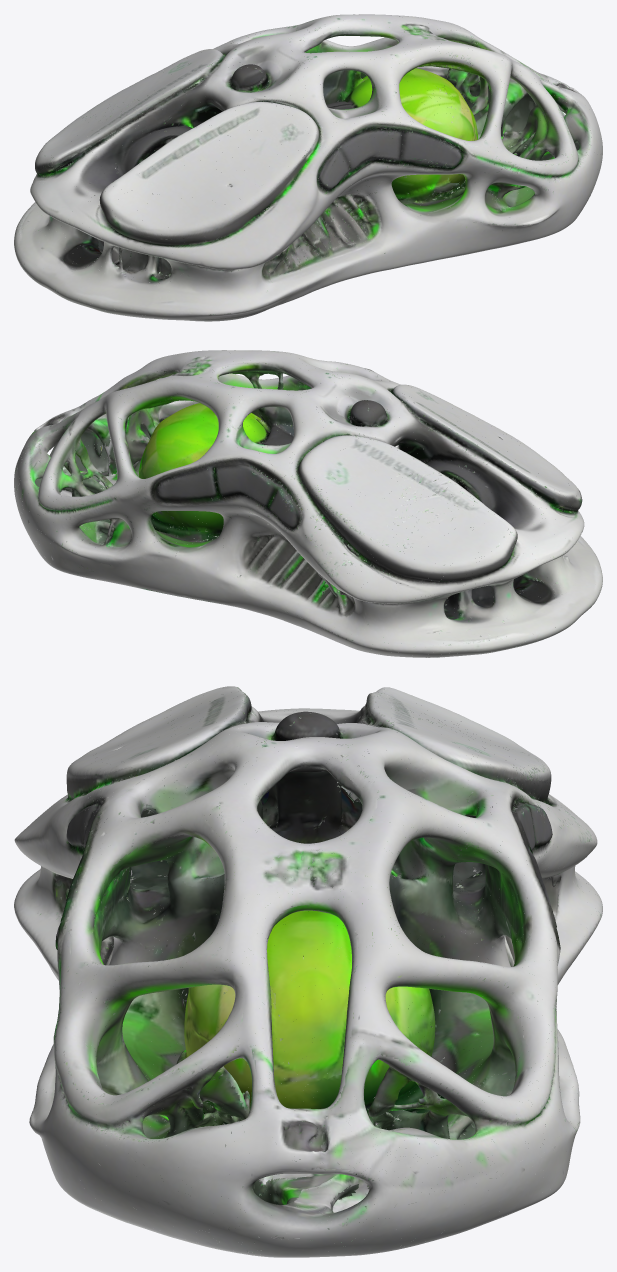
The model's file is futuristic_gaming_mouse-v1-reduced.glb.
3 renders of one model, top to bottom at view 1: azimuth 30°, elevation 25°; view 2: azimuth 150°, elevation 25°; view 3: azimuth 270°, elevation 25°, orthographic. The views are drawn at different scales.
Parts seen in each view (by area): view 1: Object_4, Object_5, Object_6, Object_10, Object_7, Object_11, Object_8, Object_9; view 2: Object_9, Object_7, Object_8, Object_4, Object_10, Object_6, Object_11, Object_5; view 3: Object_7, Object_4, Object_6, Object_10, Object_5, Object_8, Object_9, Object_11.
Part boxes in pixels (<box>): Object_4: <box>22,37,602,321</box>; Object_5: <box>89,46,598,319</box>; Object_6: <box>17,39,602,314</box>; Object_10: <box>35,17,589,290</box>; Object_7: <box>14,14,564,290</box>; Object_11: <box>55,37,591,301</box>; Object_8: <box>14,14,533,259</box>; Object_9: <box>15,17,563,266</box>; Object_9: <box>18,377,556,657</box>; Object_7: <box>14,361,588,656</box>; Object_8: <box>15,384,549,655</box>; Object_4: <box>176,352,602,657</box>; Object_10: <box>33,350,580,624</box>; Object_6: <box>14,360,602,640</box>; Object_11: <box>84,350,599,606</box>; Object_5: <box>66,350,600,566</box>; Object_7: <box>208,687,597,1257</box>; Object_4: <box>14,686,535,1252</box>; Object_6: <box>142,691,579,1257</box>; Object_10: <box>220,695,371,1256</box>; Object_5: <box>78,708,478,1229</box>; Object_8: <box>381,687,602,1246</box>; Object_9: <box>305,689,601,1244</box>; Object_11: <box>203,686,281,1257</box>.
Bounding box in the file's own units: 1.99 × 0.6367 × 1.13.
Materials: 1 (1 with a texture image).
